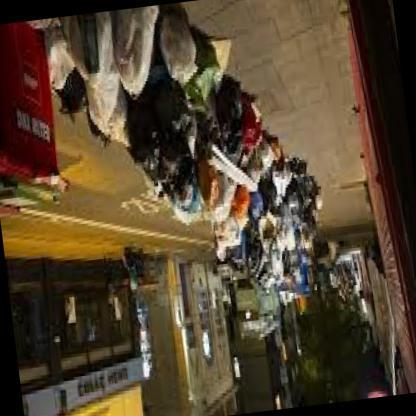Garbage: (120, 15, 258, 222), (72, 1, 230, 160), (178, 83, 284, 221), (236, 175, 324, 278), (44, 15, 112, 120)
